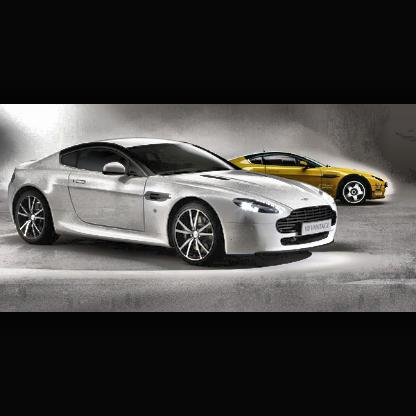Aston Martin V8 Vantage Coupe 2012: (9, 138, 341, 269)
